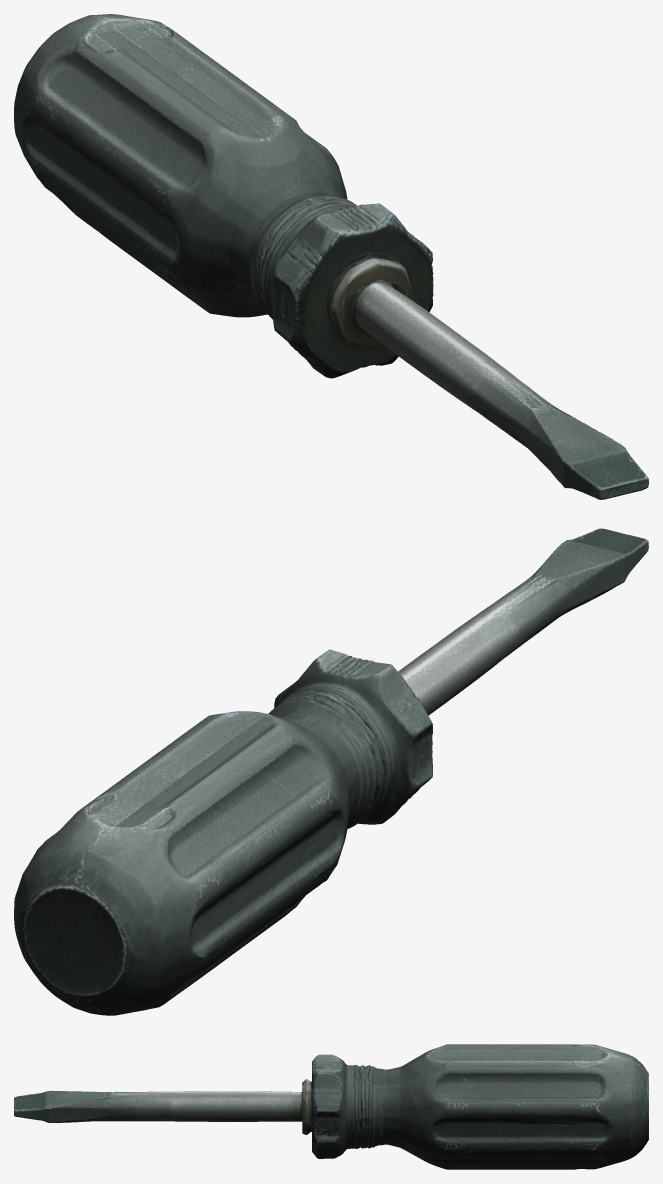
File: Screwdriver.glb
3 renders of one model, top to bottom at view 1: azimuth 30°, elevation 25°; view 2: azimuth 150°, elevation 25°; view 3: azimuth 270°, elevation 25°, orthographic. The views are drawn at different scales.
Parts seen in each view (by area): view 1: texture_mapping; view 2: texture_mapping; view 3: texture_mapping.
Part boxes in pixels (bbox=[...]): texture_mapping: bbox=[14, 14, 648, 499]; texture_mapping: bbox=[14, 528, 648, 1015]; texture_mapping: bbox=[14, 1044, 648, 1169].
Bounding box in the file's own units: 0.1765 × 0.1865 × 0.9958.
Materials: 1 (1 with a texture image).
